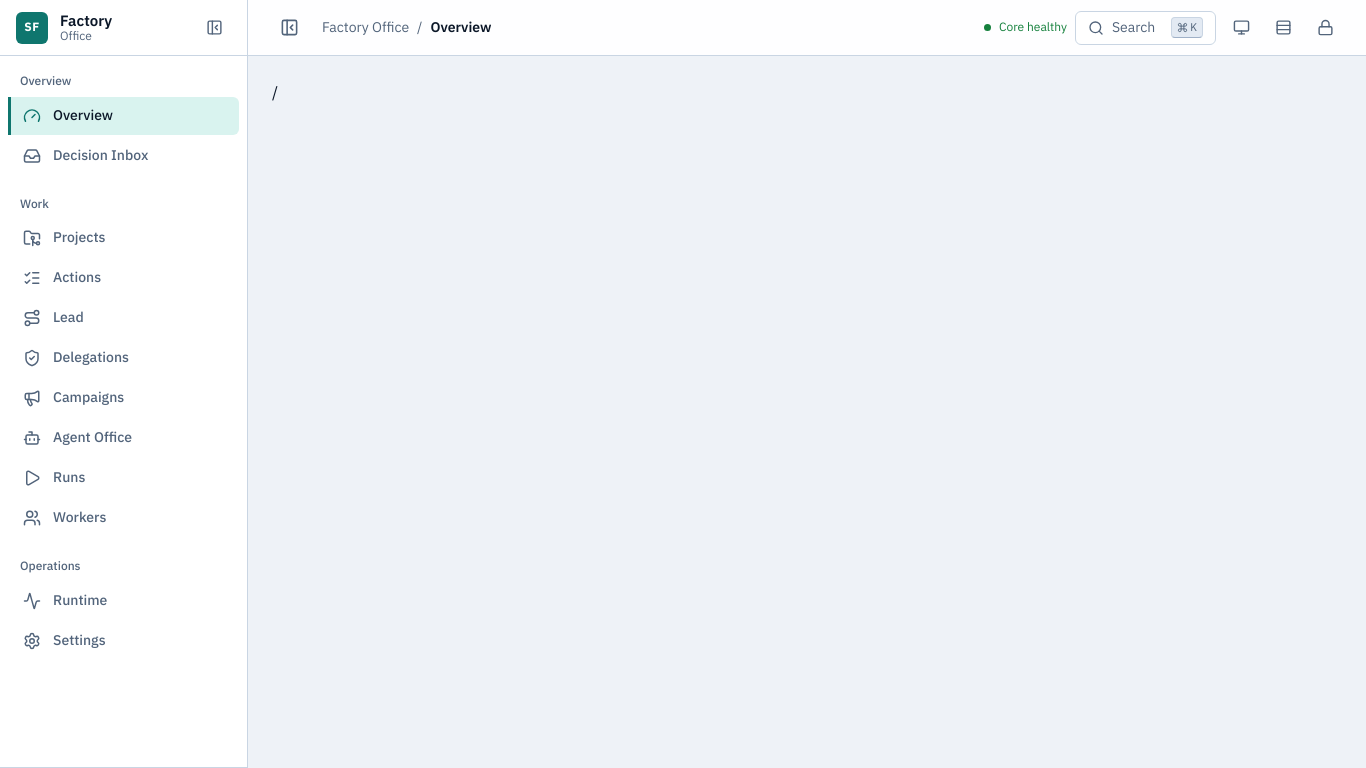
Test: AppShell › opens command navigation with the keyboard and selects a page
Type keys "{Control>}k{/Control}"
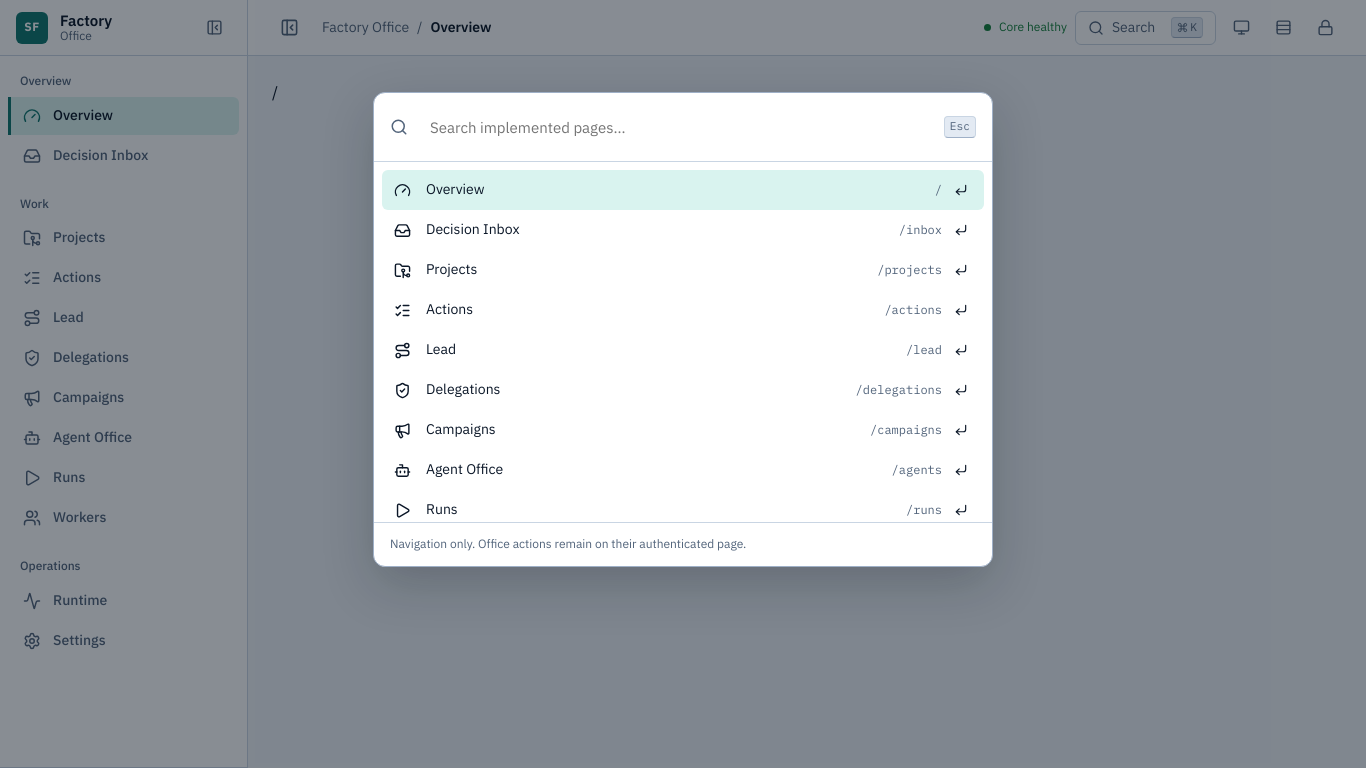
Type "projects" into the dropdown with placeholder "Search implemented pages…" at (676, 127), box [420,109,932,145]
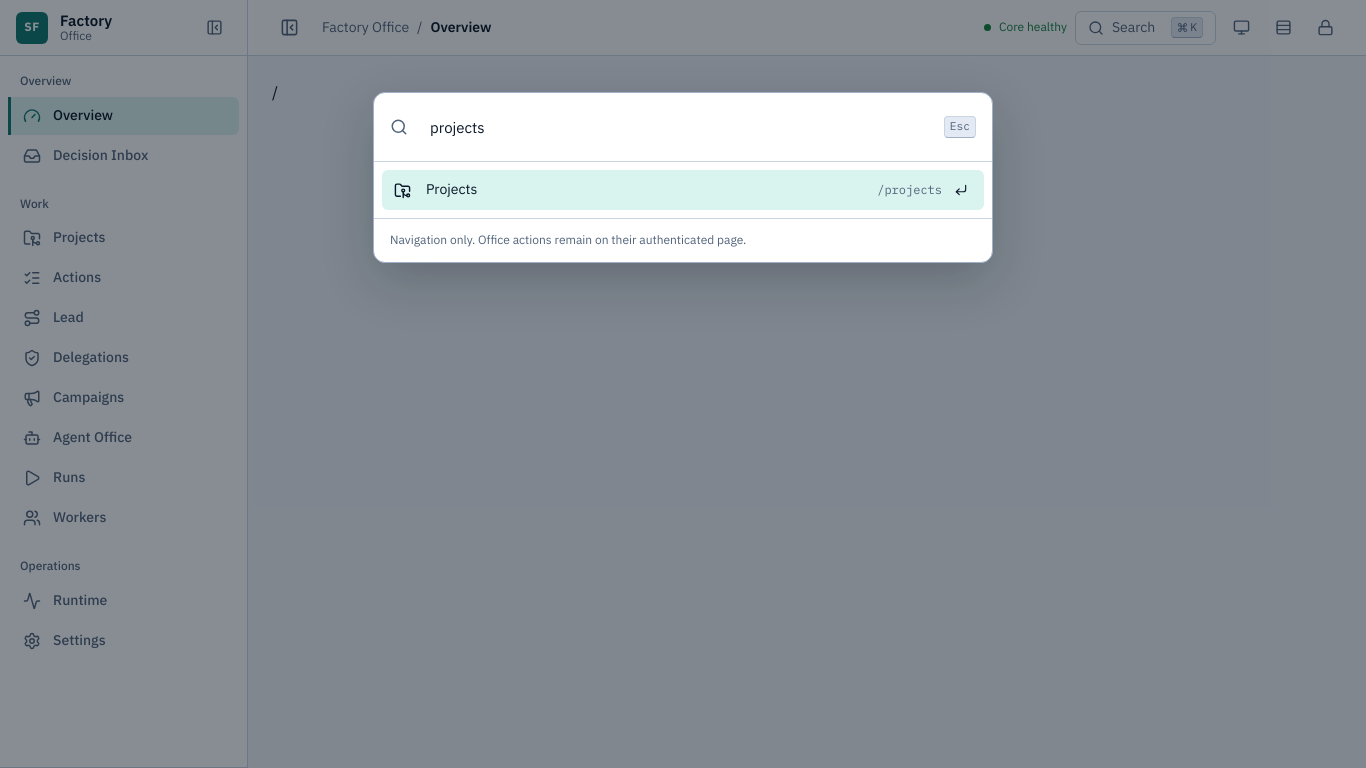
Press Enter
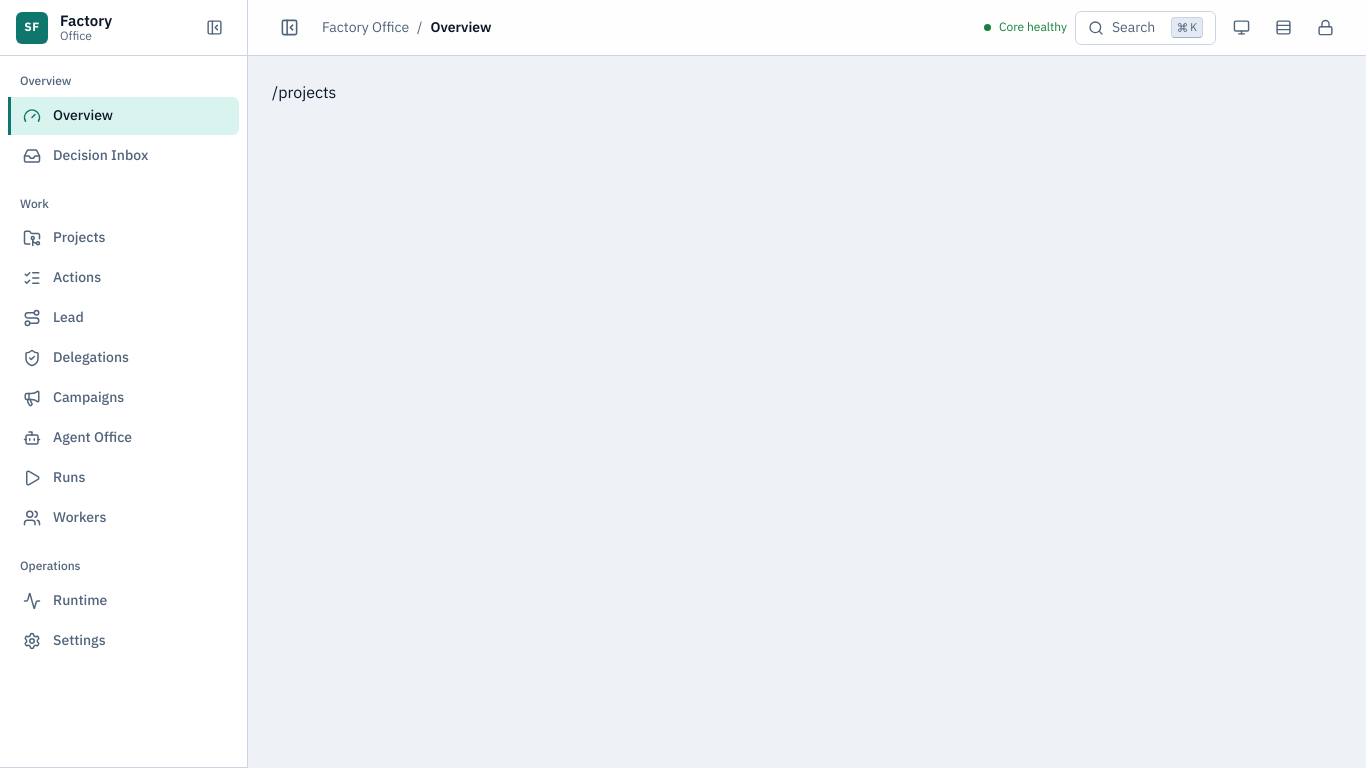
Now the text with test id "location" reads "/projects", box [272,82,336,102]
